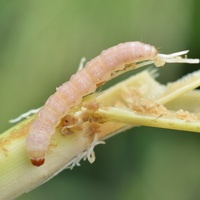insect: (0, 42, 199, 199), (26, 42, 199, 166)
